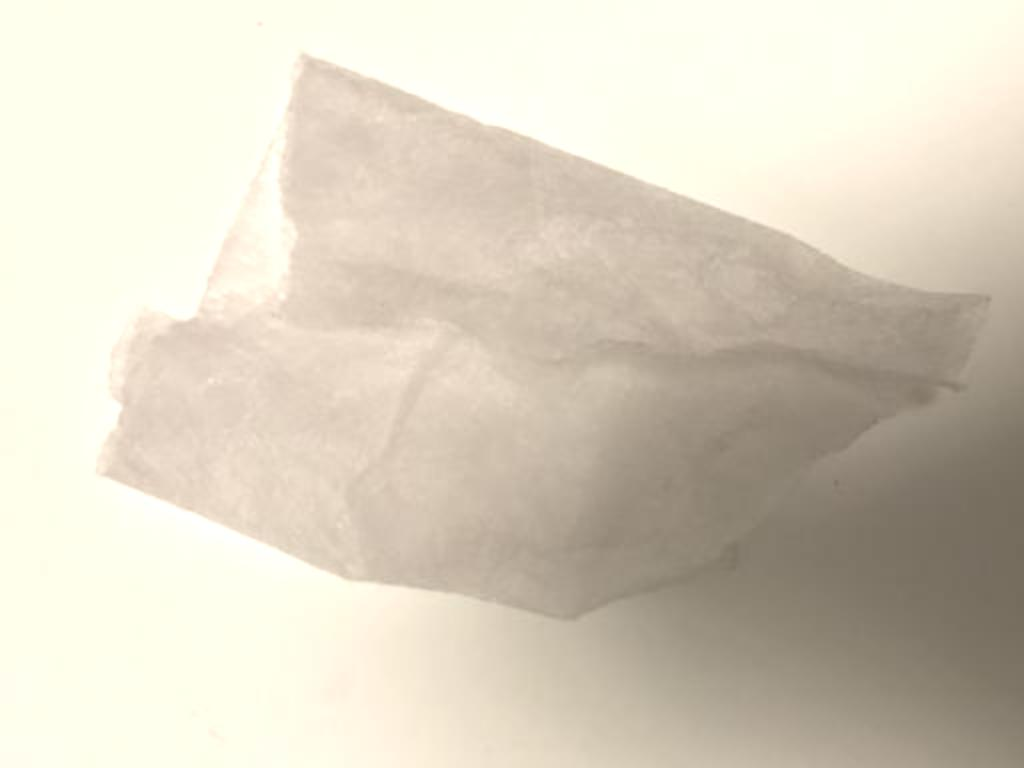garbage: (71, 16, 1003, 732)
